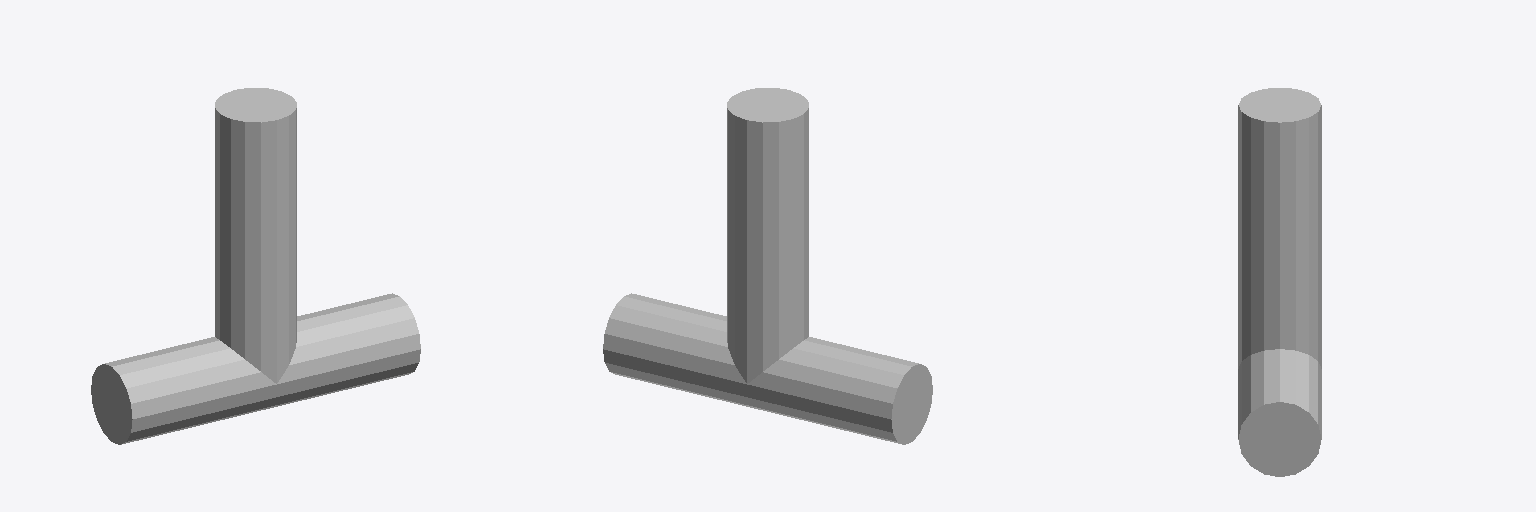
File: wrench.obj
The picture shows the model from 3 angles: view 1: azimuth 30°, elevation 25°; view 2: azimuth 150°, elevation 25°; view 3: azimuth 270°, elevation 25°; orthographic projection.
Parts seen in each view (by area): view 1: wrench; view 2: wrench; view 3: wrench.
Boxes of the visible parts, x1,y1,x2,y2 form: wrench: [91, 88, 420, 444]; wrench: [603, 88, 932, 444]; wrench: [1238, 88, 1321, 476].
Size of the model in its own units: 18.17 by 18.17 by 4.54.